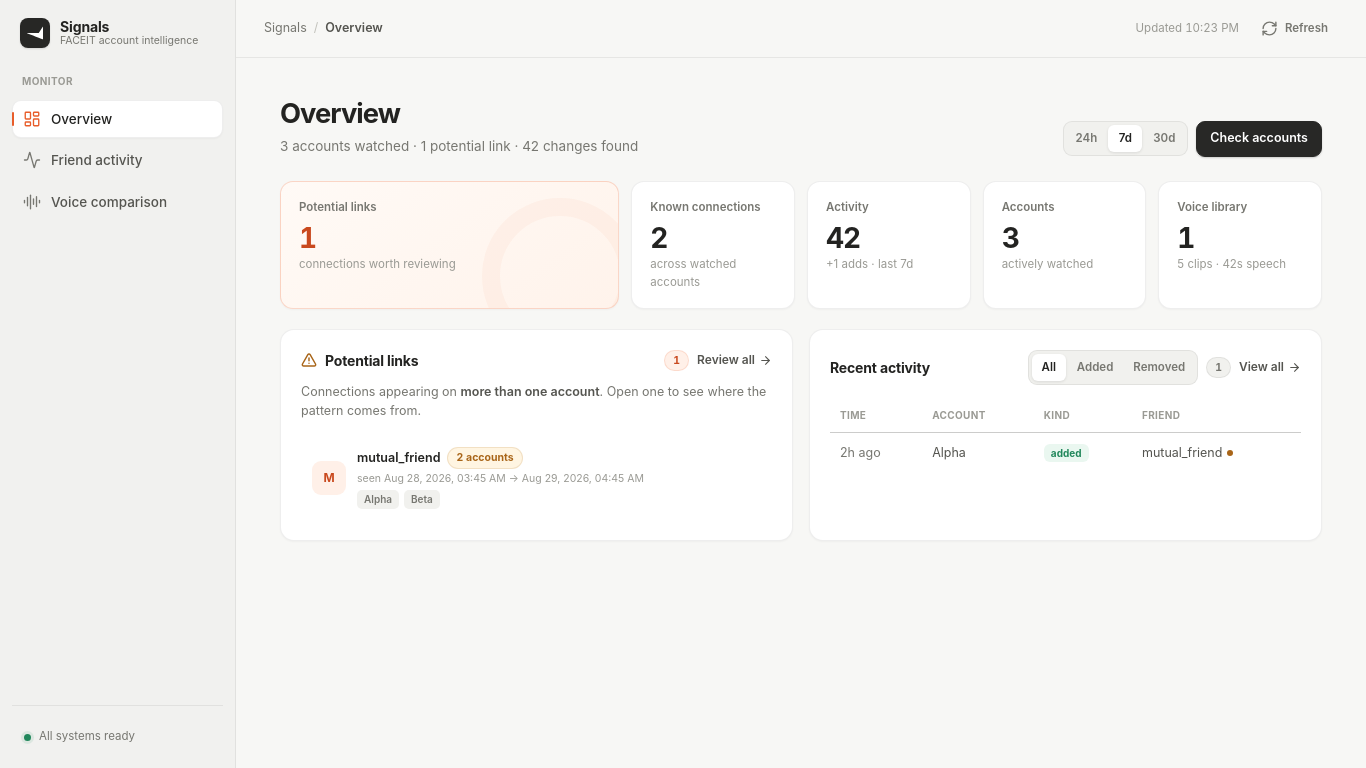
Scenario: overview dashboard › filters recent events by kind
Check: the text "added" is shown, box [1044, 444, 1088, 462]
Click the button "Removed" at (1159, 367), box [1124, 354, 1194, 381]
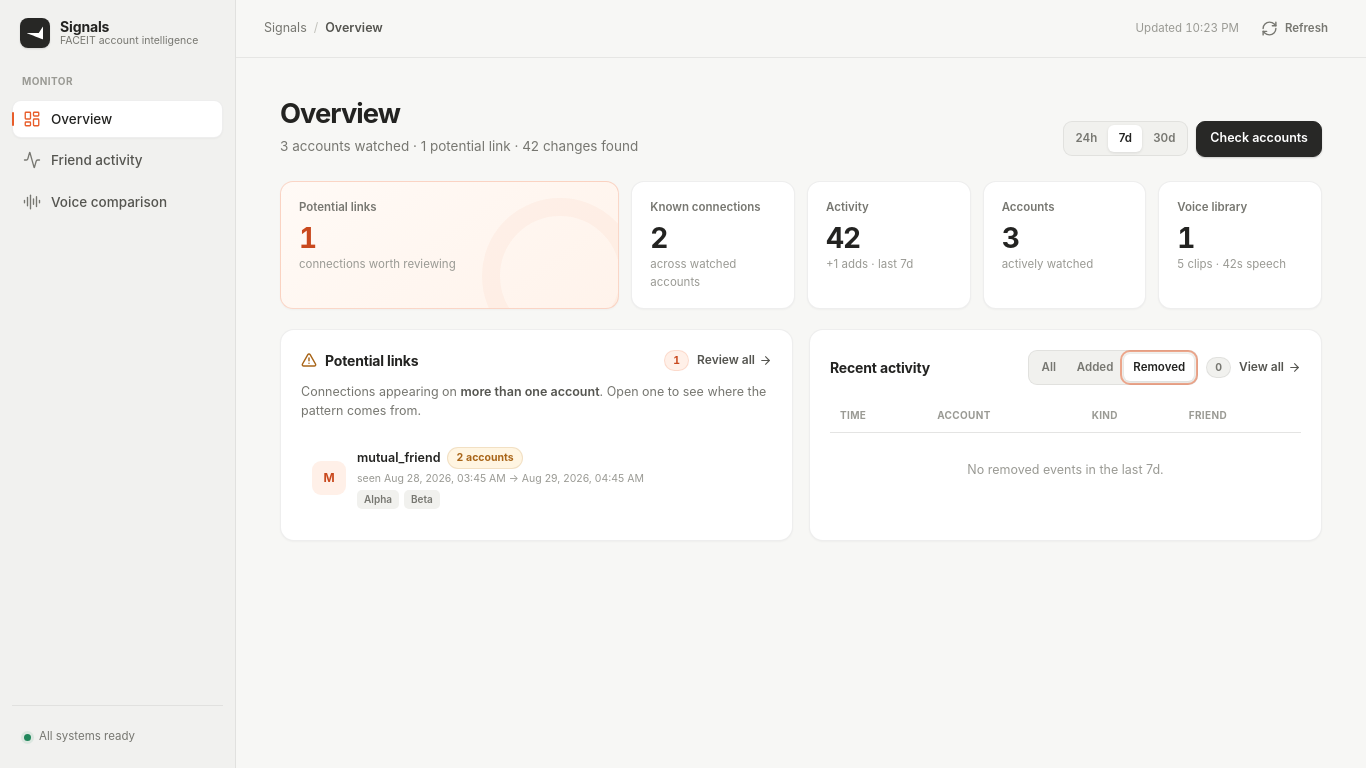
Check: the text "No removed events in the last 7d." is shown, box [830, 432, 1301, 508]
Click the button "Added" at (1095, 367), box [1068, 354, 1122, 381]
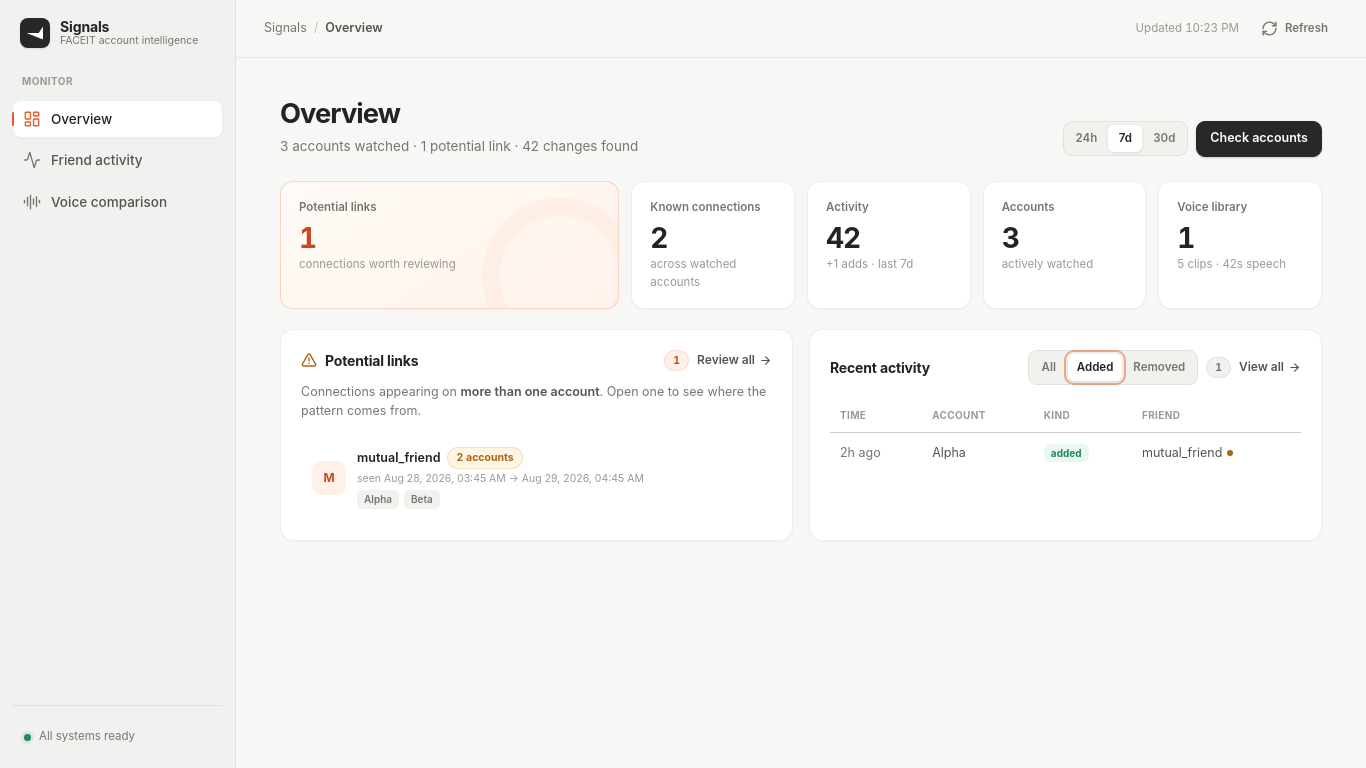
Check: the text "added" is shown, box [1044, 444, 1088, 462]
